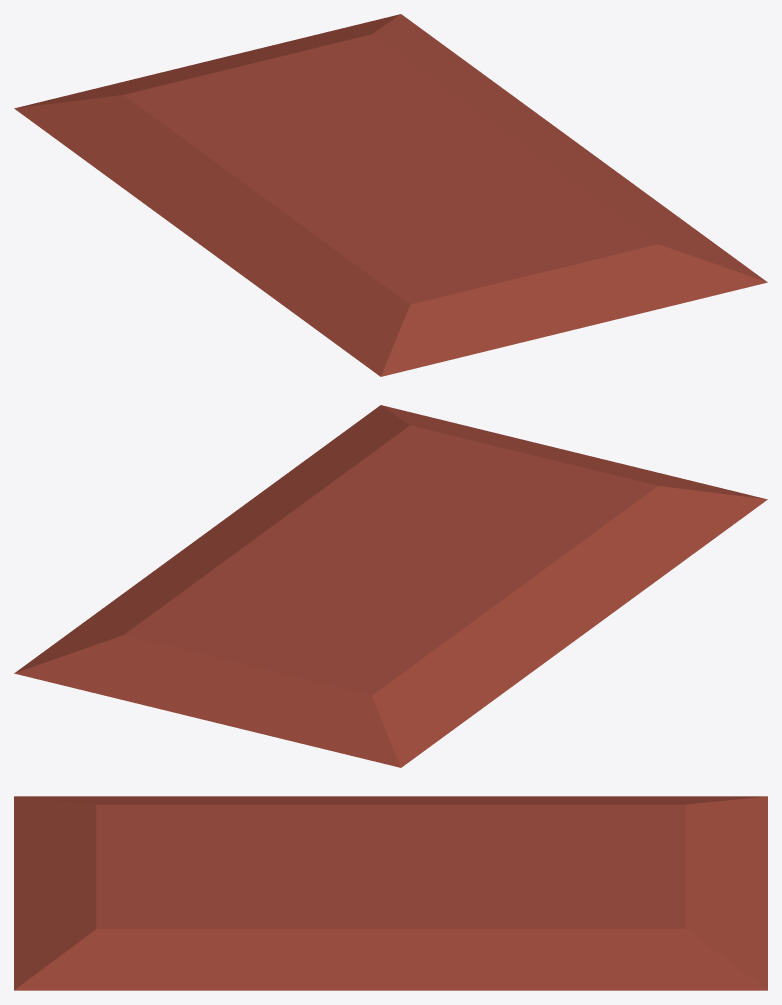
The model's file is switch_rot4.gltf.
3 views of the same model, one above another, from view 1: azimuth 30°, elevation 25°; view 2: azimuth 150°, elevation 25°; view 3: azimuth 270°, elevation 25° (orthographic). The views are drawn at different scales.
Visible parts, largest first — view 1: switch.rot4; view 2: switch.rot4; view 3: switch.rot4.
Boxes of the visible parts, x1,y1,x2,y2 form: switch.rot4: (14,14,767,376); switch.rot4: (14,405,767,767); switch.rot4: (14,796,767,990).
Size of the model in its own units: 1.56 by 0.1 by 2.56.
